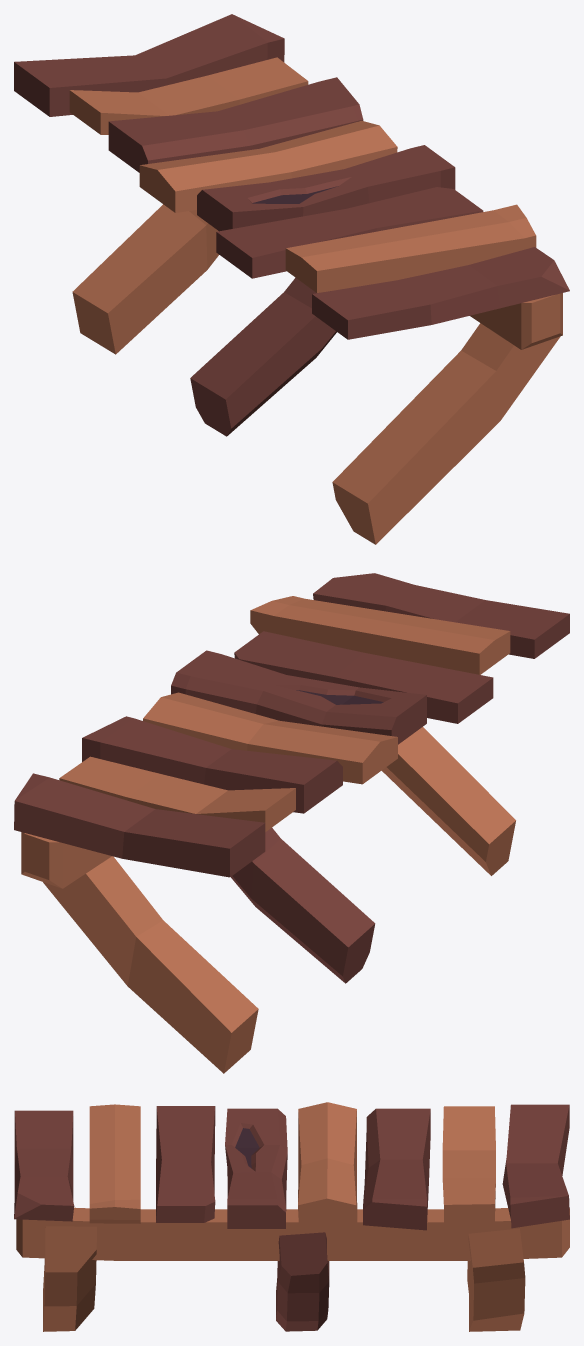
File: Wall_Top_4.fbx
3 views of the same model, one above another, from view 1: azimuth 30°, elevation 25°; view 2: azimuth 150°, elevation 25°; view 3: azimuth 270°, elevation 25° (orthographic). The views are drawn at different scales.
Visible parts, largest first — view 1: Wall_Top_4; view 2: Wall_Top_4; view 3: Wall_Top_4.
Part boxes in pixels (<box>): Wall_Top_4: <box>14,14,569,544</box>; Wall_Top_4: <box>14,573,569,1073</box>; Wall_Top_4: <box>14,1102,569,1331</box>.
Bounding box in the file's own units: 345 × 340 × 794.
